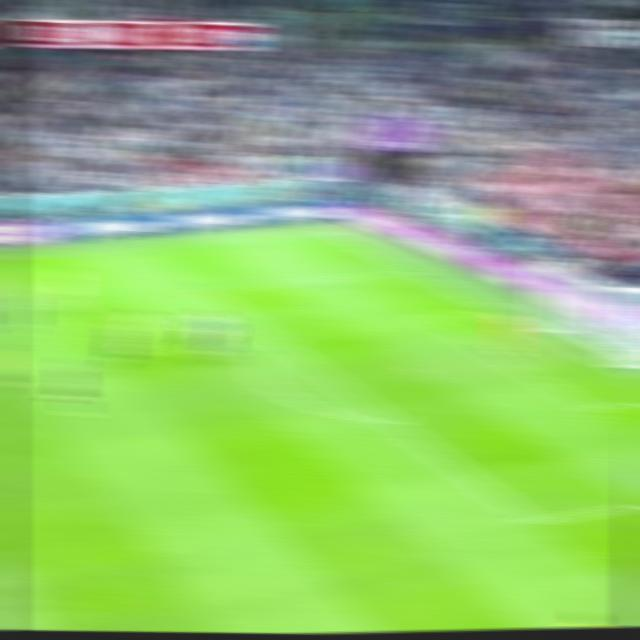bigarea_bottom_inner: (514, 509, 549, 532)
bigarea_top_inner: (188, 281, 221, 299)
bigarea_top_outter: (397, 261, 426, 276)
bottom_arc_area_intersection: (374, 409, 407, 430)
corner: (315, 223, 347, 237)
smallarea_bottom_inner: (575, 394, 610, 420)
smallarea_top_inner: (408, 308, 439, 326)
smallarea_top_outter: (477, 300, 509, 317)
top_arc_area_intersection: (262, 332, 295, 351)
